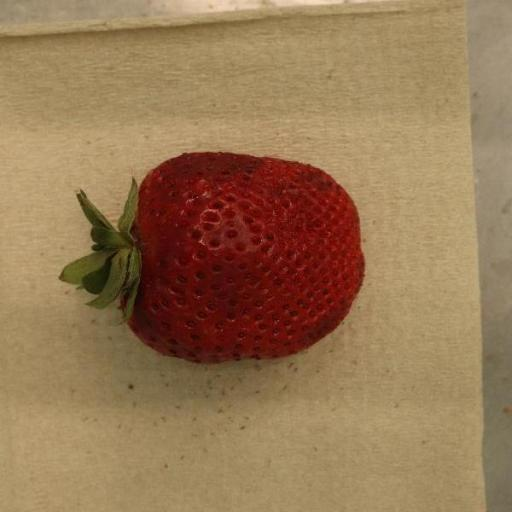Strawberry: (58, 152, 365, 365)
